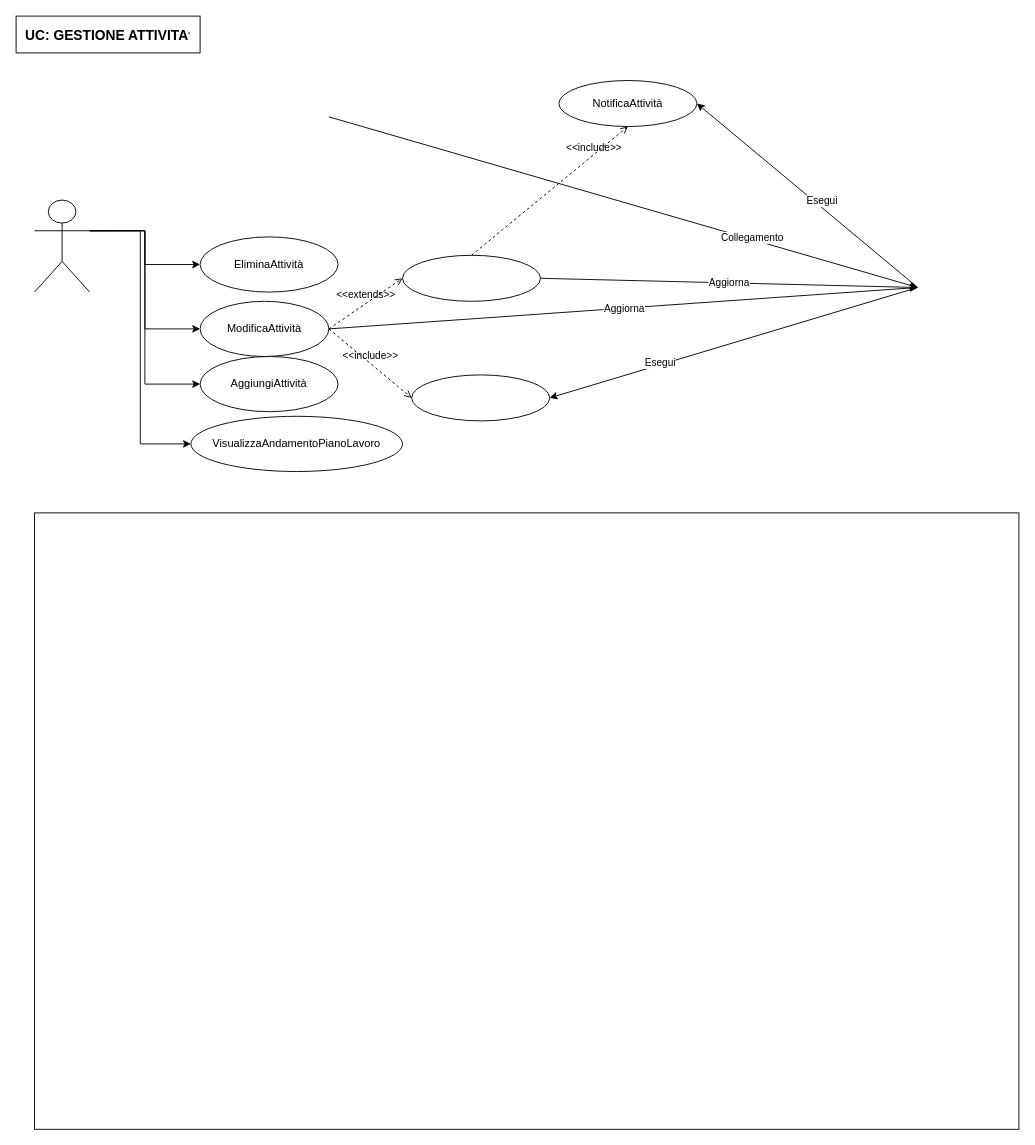
Image size: 1035x1145. Some labels were removed from this diagram. Each missing label, with the box of its shape:
AssegnaAttività: (402, 254, 540, 301)
CompletaAttività: (411, 374, 550, 421)
Utente: (34, 199, 90, 292)
